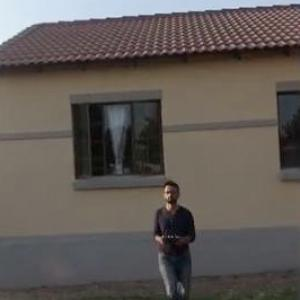follow: (144, 184, 202, 299)
